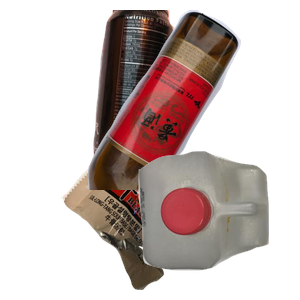glass: (85, 10, 300, 190)
metal: (91, 10, 258, 188)
plastic: (136, 149, 300, 300)
trash: (59, 124, 273, 300)
